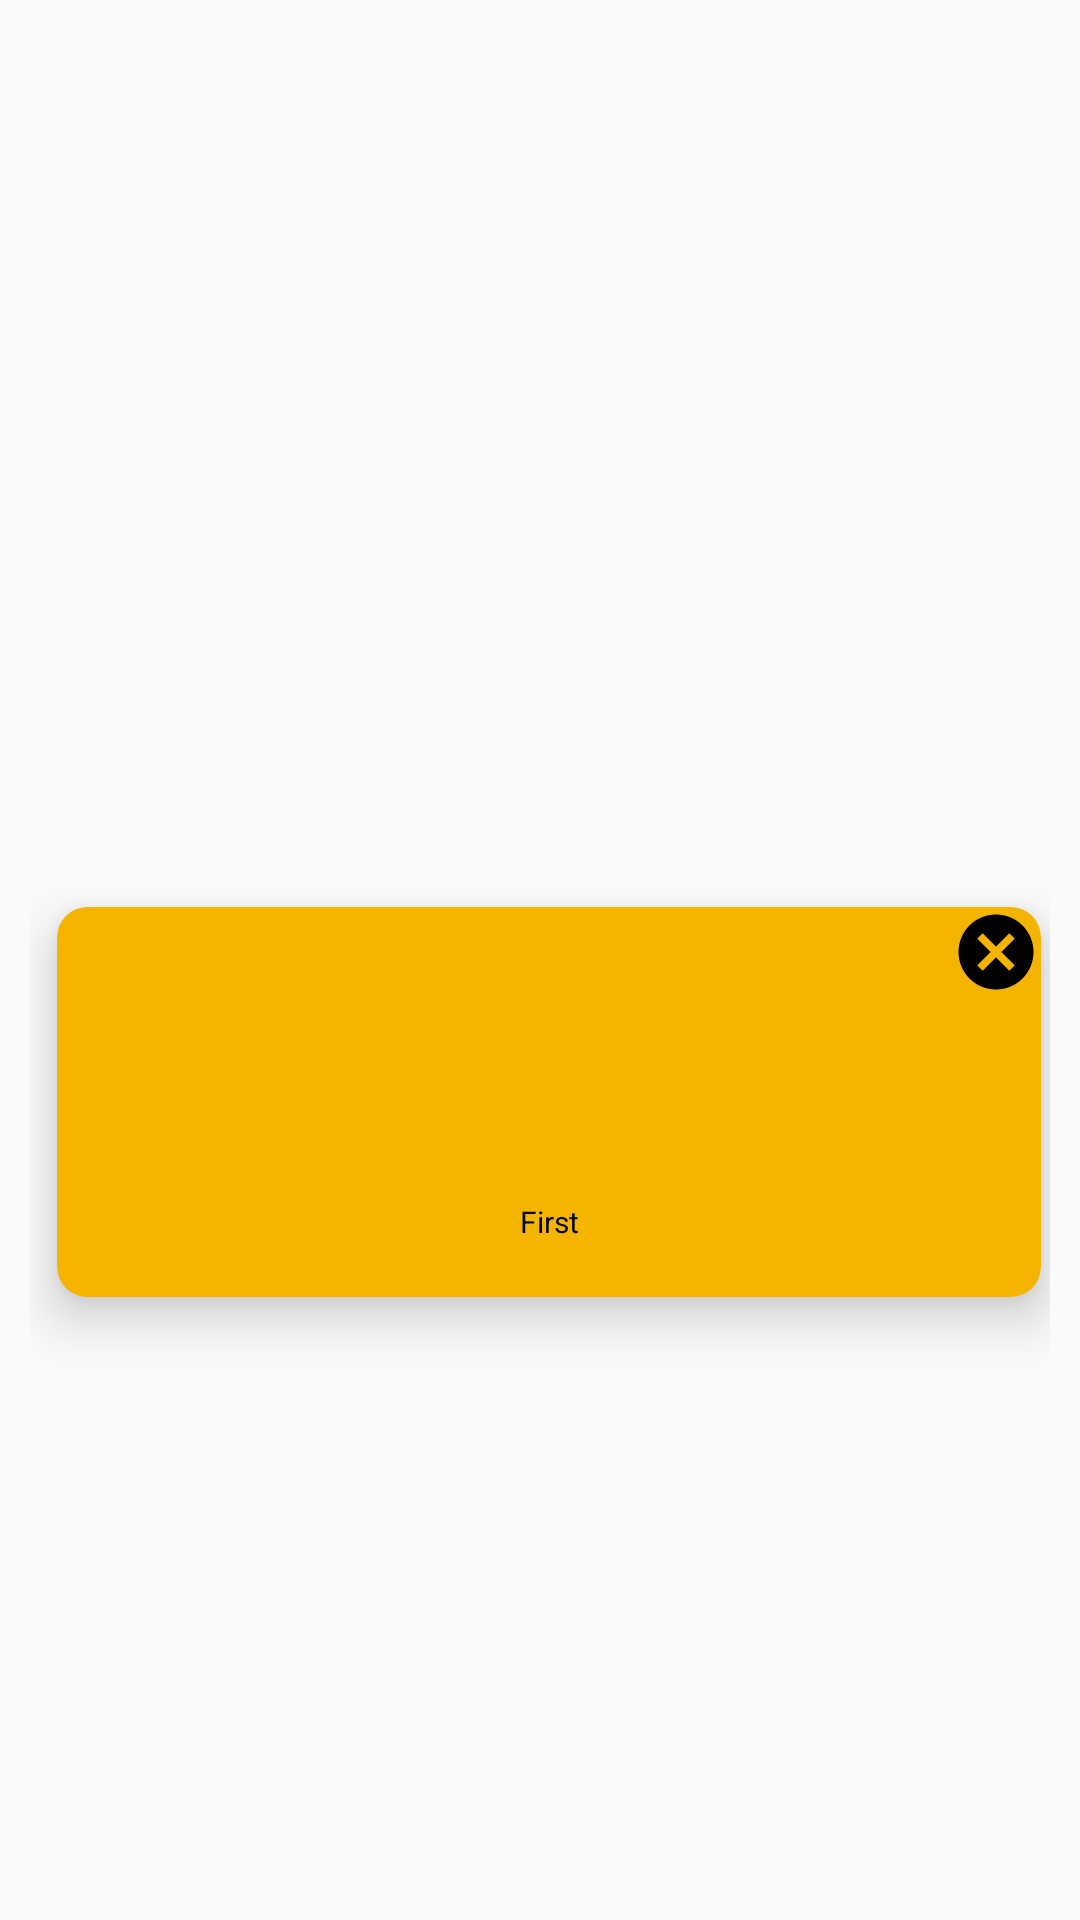

Named icons in this screenshot (1080×1920) and their centers, point (x, y):
cancel: point (996, 952)
